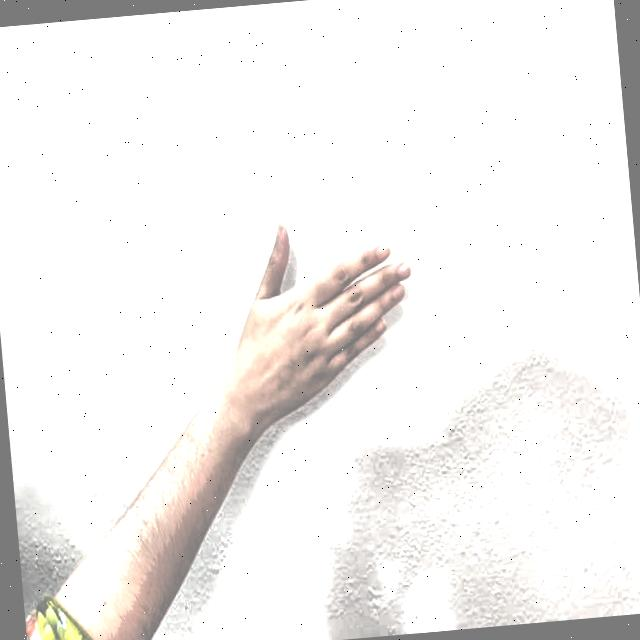Aa: (181, 148, 444, 460)
